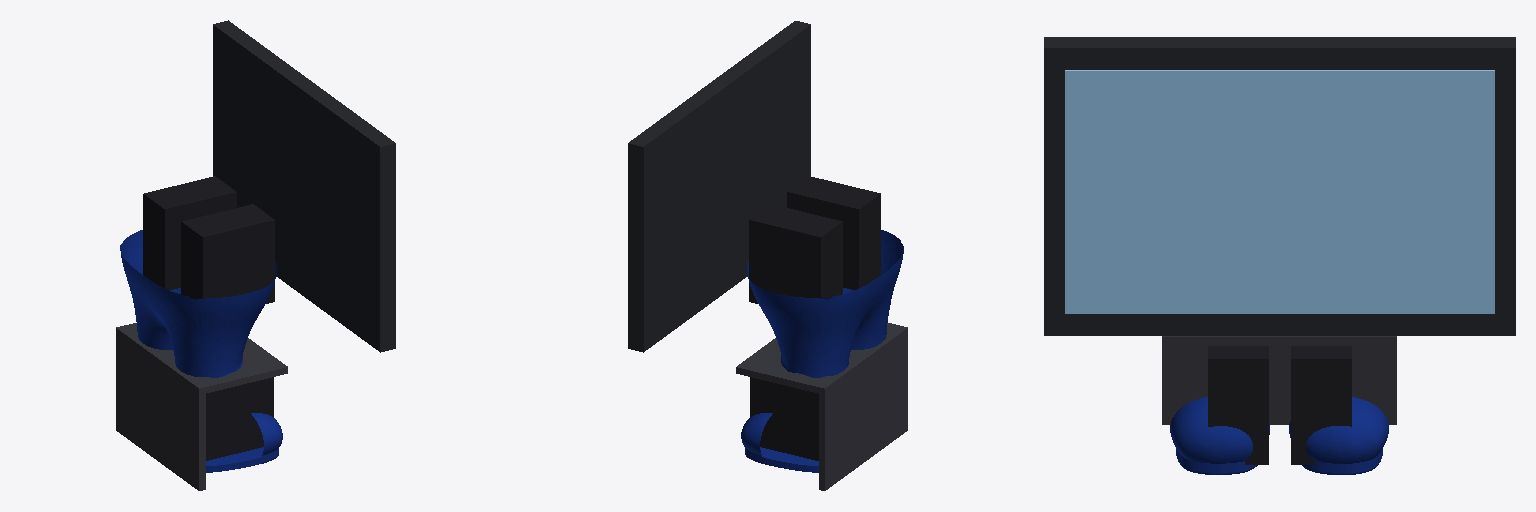
robot.urdf — haetburi:
<?xml version="1.0"?>
<!-- Haetburi biped (v14_scs0009) - generated by tools/build_model.py, do not edit by hand -->
<robot name="haetburi">
  <mujoco>
    <compiler meshdir="." balanceinertia="true" discardvisual="false" strippath="false" fusestatic="false"/>
  </mujoco>
  <material name="display"><color rgba="0.18 0.19 0.21 1"/></material>
  <material name="screen"><color rgba="0.62 0.80 0.95 1"/></material>
  <material name="shell"><color rgba="0.106 0.216 0.541 1"/></material>
  <material name="motor"><color rgba="0.15 0.15 0.17 1"/></material>
  <material name="foot"><color rgba="0.25 0.25 0.28 1"/></material>
  <link name="world"/>
  <joint name="floating_base" type="floating">
    <parent link="world"/><child link="pelvis"/>
    <origin xyz="0 0 0" rpy="0 0 0"/>
  </joint>
  <link name="pelvis">
    <inertial>
      <origin xyz="0.00715525 -2.0156e-05 0.0148532" rpy="0 0 0"/>
      <mass value="0.104332"/>
      <inertia ixx="1.23104e-05" ixy="-5.88e-09" ixz="-6.87027e-07" iyy="1.08085e-05" iyz="1.69032e-08" izz="8.1322e-06"/>
    </inertial>
    <visual><origin xyz="0 0 0" rpy="0 0 0"/><geometry><mesh filename="meshes/pelvis.stl"/></geometry><material name="shell"/></visual>
    <visual><origin xyz="0.00560114 0.0105776 0.025625" rpy="0 0 0"/><geometry><box size="0.0232 0.0121 0.02525"/></geometry><material name="motor"/></visual>
    <visual><origin xyz="0.00559886 -0.0107081 0.025625" rpy="0 0 0"/><geometry><box size="0.0232 0.0121 0.02525"/></geometry><material name="motor"/></visual>
    <collision><origin xyz="0.00322623 -6.32058e-05 0.011285" rpy="0 0 0"/><geometry><box size="0.0386809 0.051366 0.02257"/></geometry></collision>
  </link>
  <link name="torso">
    <inertial>
      <origin xyz="0.00981371 4.40404e-05 0.0545648" rpy="0 0 0"/>
      <mass value="0.176699"/>
      <inertia ixx="0.000548978" ixy="-1.54407e-06" ixz="0.000102834" iyy="0.000552112" iyz="-1.50219e-06" izz="0.000294843"/>
    </inertial>
    <visual><origin xyz="0 0 0" rpy="0 0 0"/><geometry><mesh filename="meshes/torso.stl"/></geometry><material name="shell"/></visual>
    <visual><origin xyz="0.0362981 0 0.0147212" rpy="0 0 0"/><geometry><box size="0.005106 0.093462 0.0631812"/></geometry><material name="display"/></visual>
    <visual><origin xyz="0.0388511 0 0.0147212" rpy="0 0 0"/><geometry><box size="0.0004 0.085248 0.05328"/></geometry><material name="screen"/></visual>
    <collision><origin xyz="-0.016853 -7.84539e-07 0.0124335" rpy="0 0 0"/><geometry><box size="0.0791062 0.0536397 0.0528236"/></geometry></collision>
    <collision><origin xyz="0.0205794 0.0415487 0.0250544" rpy="0 0 0"/><geometry><sphere radius="0.0300546"/></geometry></collision>
    <collision><origin xyz="0.0207217 -0.0416125 0.0250544" rpy="0 0 0"/><geometry><sphere radius="0.0300257"/></geometry></collision>
    <collision><origin xyz="-0.00258306 0.0001321 0.050722" rpy="0 0 0"/><geometry><sphere radius="0.0515496"/></geometry></collision>
    <collision><origin xyz="-0.00450107 -6.07329e-05 0.0744593" rpy="0 0 0"/><geometry><sphere radius="0.0594729"/></geometry></collision>
    <collision><origin xyz="-0.00685386 -0.000100238 0.0982007" rpy="0 0 0"/><geometry><sphere radius="0.058784"/></geometry></collision>
    <collision><origin xyz="-0.00537684 0.000423437 0.121941" rpy="0 0 0"/><geometry><sphere radius="0.0511149"/></geometry></collision>
    <collision><origin xyz="-0.00318163 0.00335162 0.145696" rpy="0 0 0"/><geometry><sphere radius="0.0364331"/></geometry></collision>
    <collision><origin xyz="-0.00583078 -0.00110779 0.16943" rpy="0 0 0"/><geometry><sphere radius="0.0211432"/></geometry></collision>
    <collision><origin xyz="0.0362981 0 0.0147212" rpy="0 0 0"/><geometry><box size="0.005106 0.093462 0.0631812"/></geometry></collision>
  </link>
  <link name="leg_l">
    <inertial>
      <origin xyz="-9.87871e-05 2.25766e-05 -0.0143808" rpy="0 0 0"/>
      <mass value="0.0124116"/>
      <inertia ixx="2.13404e-06" ixy="-3.0874e-10" ixz="1.24732e-08" iyy="9.88302e-07" iyz="-2.49468e-09" izz="1.97906e-06"/>
    </inertial>
    <visual><origin xyz="0 0 0" rpy="0 0 0"/><geometry><mesh filename="meshes/leg_l.stl"/></geometry><material name="shell"/></visual>
    <visual><origin xyz="-0.00999874 -0.00235206 -0.02024" rpy="0 0 0"/><geometry><box size="0.002 0.03 0.0316"/></geometry><material name="foot"/></visual>
    <visual><origin xyz="0.00331376 -0.00235206 -0.00544" rpy="0 0 0"/><geometry><box size="0.028625 0.03 0.002"/></geometry><material name="foot"/></visual>
    <collision><origin xyz="-2.44716e-07 -3.37363e-06 -0.00222" rpy="0 0 0"/><geometry><box size="0.0201774 0.0184859 0.00444"/></geometry></collision>
  </link>
  <link name="foot_l">
    <inertial>
      <origin xyz="0.000618274 0.000423359 0.00437793" rpy="0 0 0"/>
      <mass value="0.0150917"/>
      <inertia ixx="1.0186e-06" ixy="-3.20237e-08" ixz="5.32567e-08" iyy="1.63535e-06" iyz="5.31375e-08" izz="1.08804e-06"/>
    </inertial>
    <visual><origin xyz="0 0 0" rpy="0 0 0"/><geometry><mesh filename="meshes/foot_l.stl"/></geometry><material name="shell"/></visual>
    <visual><origin xyz="-0 0 0.0056" rpy="0 0 0"/><geometry><box size="0.02525 0.0121 0.0232"/></geometry><material name="motor"/></visual>
    <collision><origin xyz="0 0 0" rpy="0 0 0"/><geometry><mesh filename="meshes/foot_l.stl"/></geometry></collision>
    <collision><origin xyz="-0 0 0.0056" rpy="0 0 0"/><geometry><box size="0.02525 0.0121 0.0232"/></geometry></collision>
  </link>
  <link name="leg_r">
    <inertial>
      <origin xyz="-2.9031e-05 1.16217e-05 -0.014242" rpy="0 0 0"/>
      <mass value="0.0125866"/>
      <inertia ixx="2.15607e-06" ixy="-3.34875e-09" ixz="3.85941e-09" iyy="1.00626e-06" iyz="-1.76014e-09" izz="1.98464e-06"/>
    </inertial>
    <visual><origin xyz="0 0 0" rpy="0 0 0"/><geometry><mesh filename="meshes/leg_r.stl"/></geometry><material name="shell"/></visual>
    <visual><origin xyz="-0.00999646 0.0023809 -0.02024" rpy="0 0 0"/><geometry><box size="0.002 0.03 0.0316"/></geometry><material name="foot"/></visual>
    <visual><origin xyz="0.00331604 0.0023809 -0.00544" rpy="0 0 0"/><geometry><box size="0.028625 0.03 0.002"/></geometry><material name="foot"/></visual>
    <collision><origin xyz="5.8441e-07 5.34826e-06 -0.00222" rpy="0 0 0"/><geometry><box size="0.0201611 0.0185214 0.00444"/></geometry></collision>
  </link>
  <link name="foot_r">
    <inertial>
      <origin xyz="0.000612008 -0.000427551 0.00437913" rpy="0 0 0"/>
      <mass value="0.015086"/>
      <inertia ixx="1.01893e-06" ixy="3.21253e-08" ixz="5.28262e-08" iyy="1.6336e-06" iyz="-5.38433e-08" izz="1.08683e-06"/>
    </inertial>
    <visual><origin xyz="0 0 0" rpy="0 0 0"/><geometry><mesh filename="meshes/foot_r.stl"/></geometry><material name="shell"/></visual>
    <visual><origin xyz="-0 0 0.0056" rpy="0 0 0"/><geometry><box size="0.02525 0.0121 0.0232"/></geometry><material name="motor"/></visual>
    <collision><origin xyz="0 0 0" rpy="0 0 0"/><geometry><mesh filename="meshes/foot_r.stl"/></geometry></collision>
    <collision><origin xyz="-0 0 0.0056" rpy="0 0 0"/><geometry><box size="0.02525 0.0121 0.0232"/></geometry></collision>
  </link>
  <joint name="waist_fixed" type="fixed">
    <parent link="pelvis"/><child link="torso"/>
    <origin xyz="0 0 0.02257" rpy="0 0 0"/>
  </joint>
  <joint name="hip_yaw_l" type="revolute">
    <parent link="pelvis"/><child link="leg_l"/>
    <origin xyz="1.1393e-06 0.0105776 0" rpy="0 0 0"/>
    <axis xyz="0 0 1"/>
    <limit lower="-0.523599" upper="0.523599" effort="0.226" velocity="10.5"/>
    <dynamics damping="0.016142857142857146" friction="0.006457142857142858"/>
  </joint>
  <joint name="hip_yaw_r" type="revolute">
    <parent link="pelvis"/><child link="leg_r"/>
    <origin xyz="-1.1393e-06 -0.0107081 0" rpy="0 0 0"/>
    <axis xyz="0 0 1"/>
    <limit lower="-0.523599" upper="0.523599" effort="0.226" velocity="10.5"/>
    <dynamics damping="0.016142857142857146" friction="0.006457142857142858"/>
  </joint>
  <joint name="ankle_roll_l" type="revolute">
    <parent link="leg_l"/><child link="foot_l"/>
    <origin xyz="0.00562626 -0.00235206 -0.02604" rpy="0 0 0"/>
    <axis xyz="1 0 0"/>
    <limit lower="-0.261799" upper="0.261799" effort="0.226" velocity="10.5"/>
    <dynamics damping="0.016142857142857146" friction="0.006457142857142858"/>
  </joint>
  <joint name="ankle_roll_r" type="revolute">
    <parent link="leg_r"/><child link="foot_r"/>
    <origin xyz="0.00562854 0.0023809 -0.02604" rpy="0 0 0"/>
    <axis xyz="1 0 0"/>
    <limit lower="-0.261799" upper="0.261799" effort="0.226" velocity="10.5"/>
    <dynamics damping="0.016142857142857146" friction="0.006457142857142858"/>
  </joint>
</robot>

--- Render facts (derived) ---
3 views of the same robot in one strip: view 1: azimuth 30°, elevation 25°; view 2: azimuth 150°, elevation 25°; view 3: azimuth 270°, elevation 25° (orthographic).
Model haetburi with 7 links and 6 joints (4 revolute, 1 fixed, 1 floating), rooted at world, posed all joints at 0.
Links seen in each view (by area): view 1: torso, pelvis, leg_r, leg_l, foot_r; view 2: torso, pelvis, leg_l, foot_l, leg_r; view 3: torso, foot_r, foot_l, leg_l, leg_r.
Boxes of the visible links, x1,y1,x2,y2 form: torso: (213,20,395,352); pelvis: (120,176,276,363); leg_r: (149,338,287,490); leg_l: (116,323,175,469); foot_r: (206,377,282,472); torso: (628,21,810,352); pelvis: (747,176,903,363); leg_l: (736,338,878,490); foot_l: (741,377,818,472); leg_r: (775,322,907,450); torso: (1044,37,1515,335); foot_r: (1170,346,1269,474); foot_l: (1289,346,1388,474); leg_l: (1269,336,1396,424); leg_r: (1162,336,1313,424).
Size in the robot's own frame: 0.0552 by 0.0935 by 0.1049 metres.
Meshes: 6 distinct files referenced, 5 mesh visuals loaded (5 binary STL); not drawn: 1 (reference not matched to a file when rendering).
